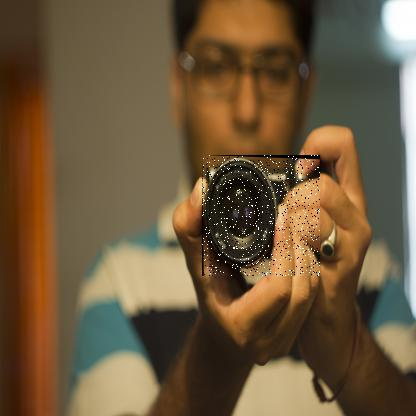Camera: (203, 156, 322, 278)
